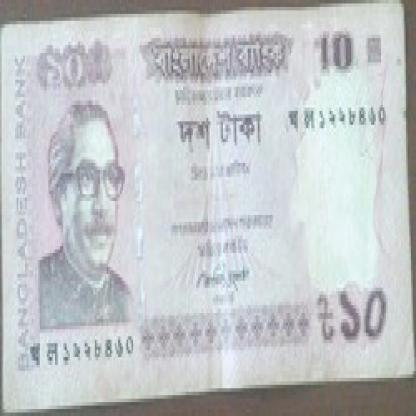Ten Taka: (334, 274, 392, 347), (302, 17, 360, 87), (43, 45, 87, 97)
